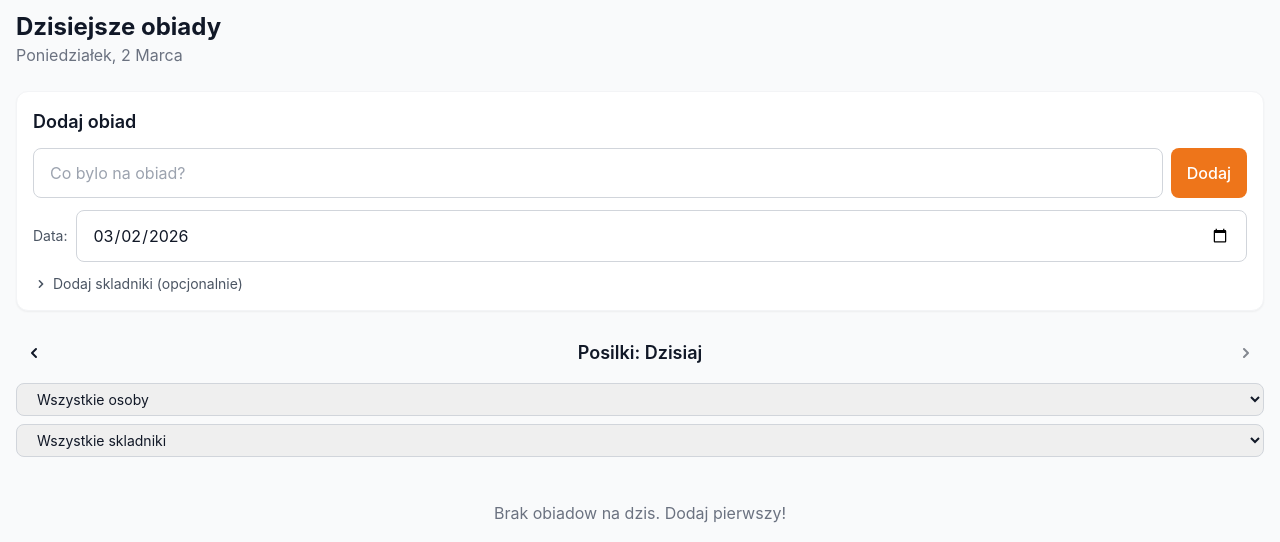
Test: HomePage › deletes a meal
This screenshot has width=1280, height=542.
Type "DoUsuniecia" into the dropdown with placeholder "Co bylo na obiad?" at {"x": 598, "y": 173}, box x1=33 y1=148 x2=1163 y2=198
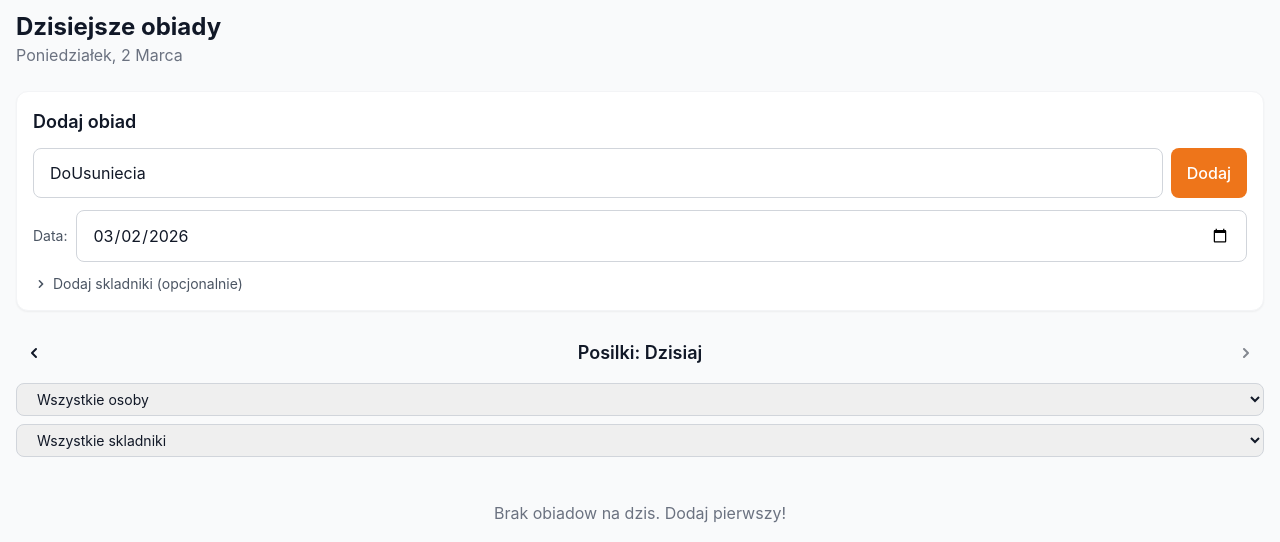
Click the button with aria-label "dodaj obiad" at {"x": 1209, "y": 173}, box x1=1171 y1=148 x2=1247 y2=198
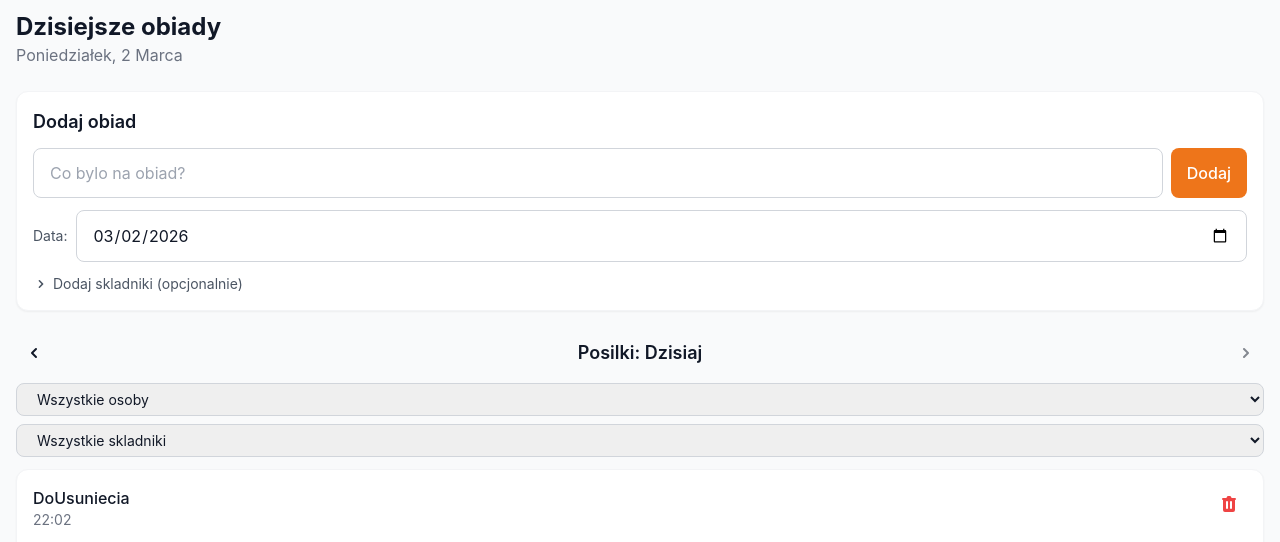
expect the text "DoUsuniecia" is shown: met, box x1=33 y1=486 x2=130 y2=510
Click the button named "usun DoUsuniecia" at {"x": 1229, "y": 504}, box x1=1211 y1=486 x2=1247 y2=522
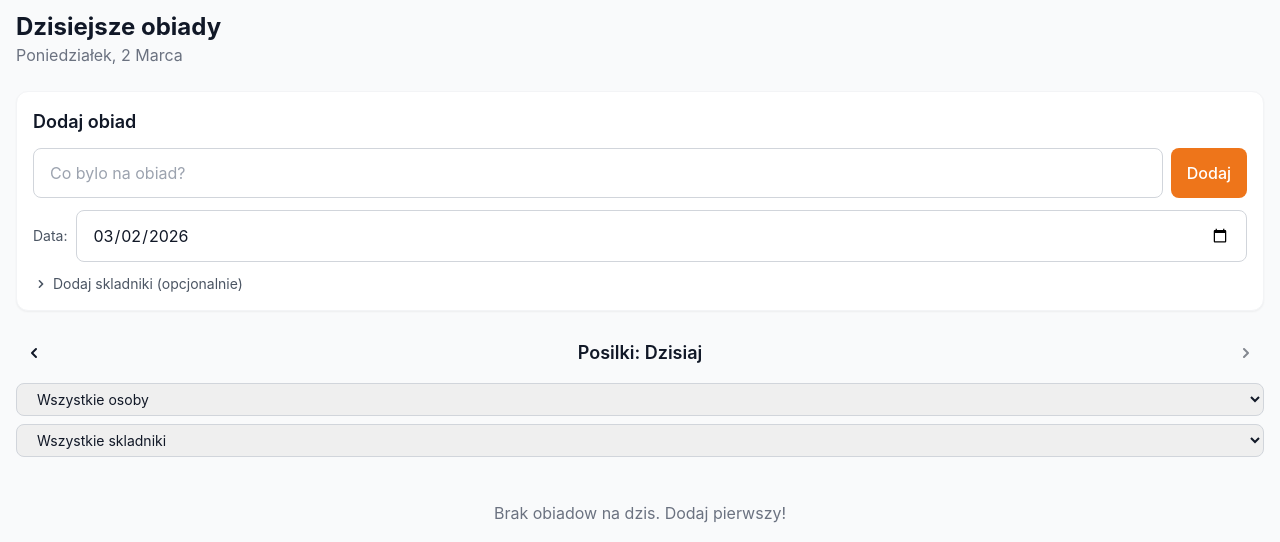
expect the text "DoUsuniecia" is gone: met
